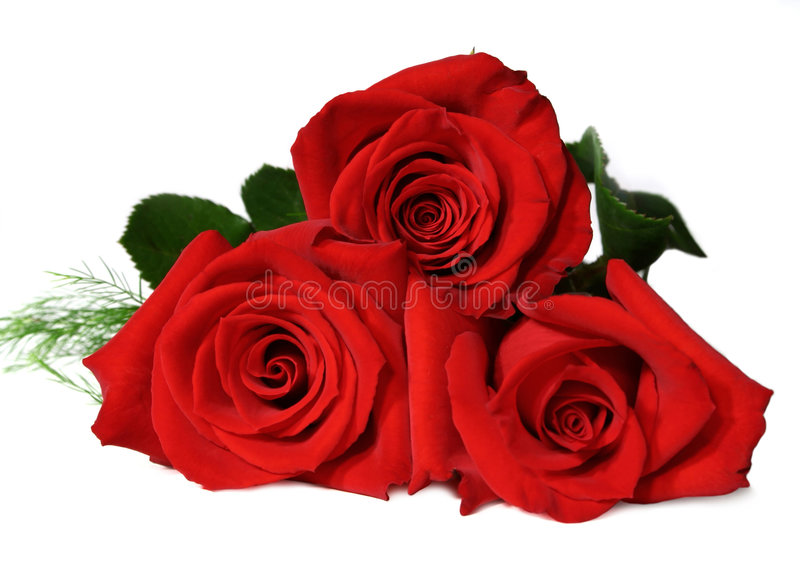RedRose: (411, 246, 786, 542), (81, 220, 448, 498), (275, 37, 613, 306)
